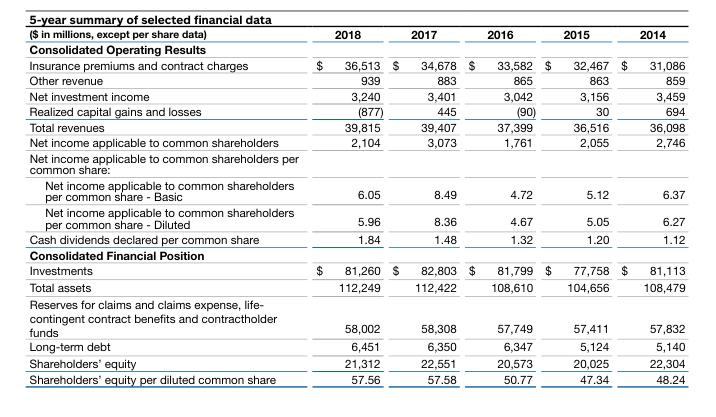table: (28, 29, 684, 385)
table column: (28, 29, 304, 385), (304, 29, 387, 385), (461, 29, 539, 385), (539, 29, 614, 385), (387, 29, 461, 385), (614, 29, 684, 385)
table column header: (28, 29, 684, 42)
table projected row header: (28, 151, 684, 178), (28, 42, 684, 58), (28, 248, 684, 263)
table row: (28, 296, 684, 340), (28, 151, 684, 178), (28, 178, 684, 205), (28, 205, 684, 232), (28, 279, 684, 296), (28, 42, 684, 58), (28, 73, 684, 89), (28, 104, 684, 120), (28, 135, 684, 151), (28, 232, 684, 248), (28, 263, 684, 279), (28, 340, 684, 356), (28, 356, 684, 372), (28, 58, 684, 73), (28, 89, 684, 104), (28, 120, 684, 135), (28, 248, 684, 263), (28, 29, 684, 42), (28, 372, 684, 385)
